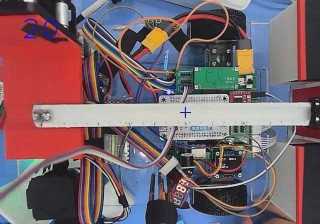ironball: (40, 110, 51, 120)
